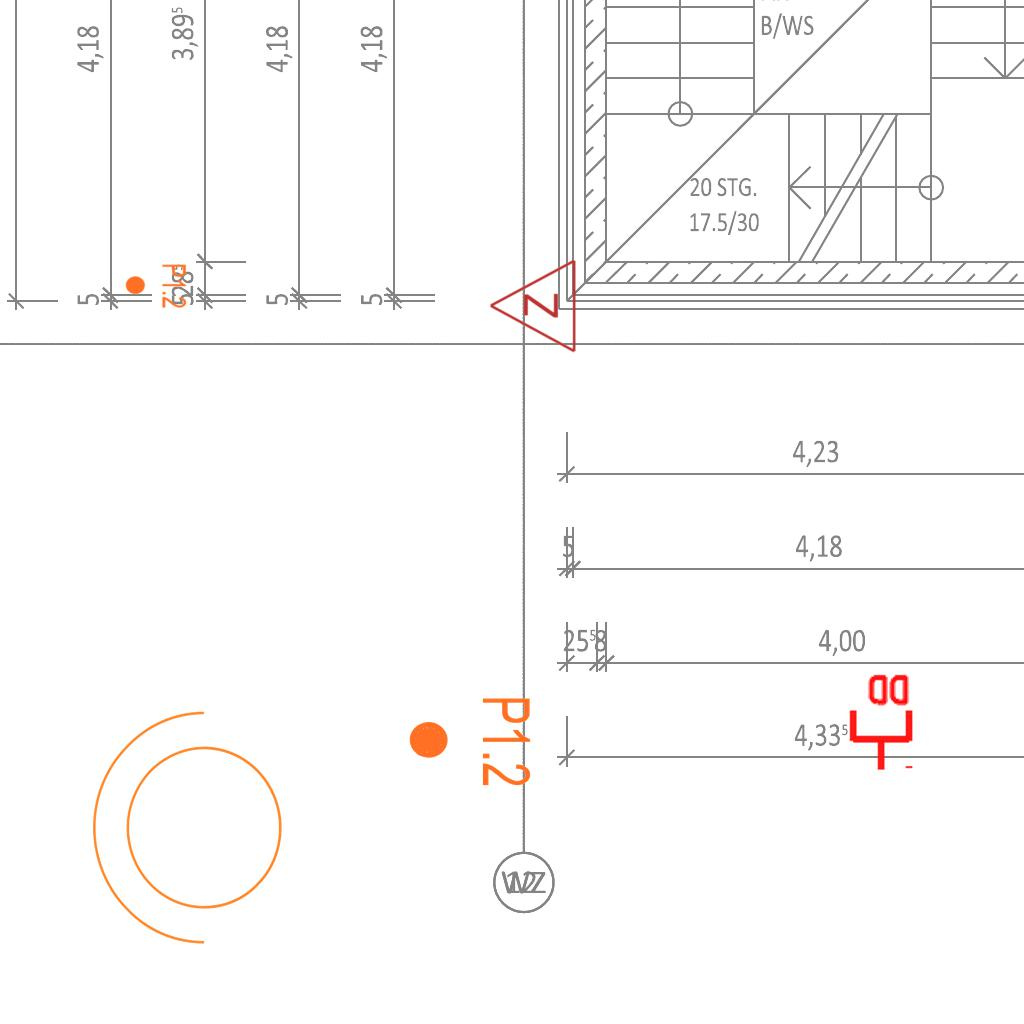Datenanschluss_zweifach: (845, 670, 914, 773)
Downlight_LED_Einbauleuchten_Flur: (406, 695, 534, 788), (124, 263, 188, 309)
Scheinwerfer_fuer_Alarmbeleuchtung: (82, 702, 307, 966)
Zimmersignalleuchte: (483, 258, 583, 356)
